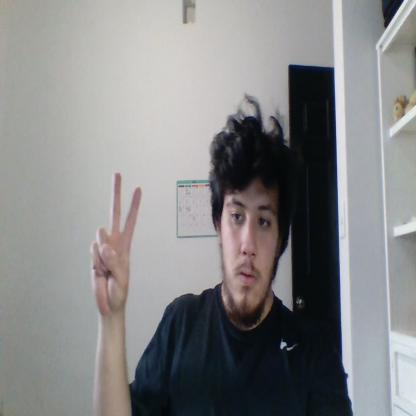V: (90, 172, 142, 312)
